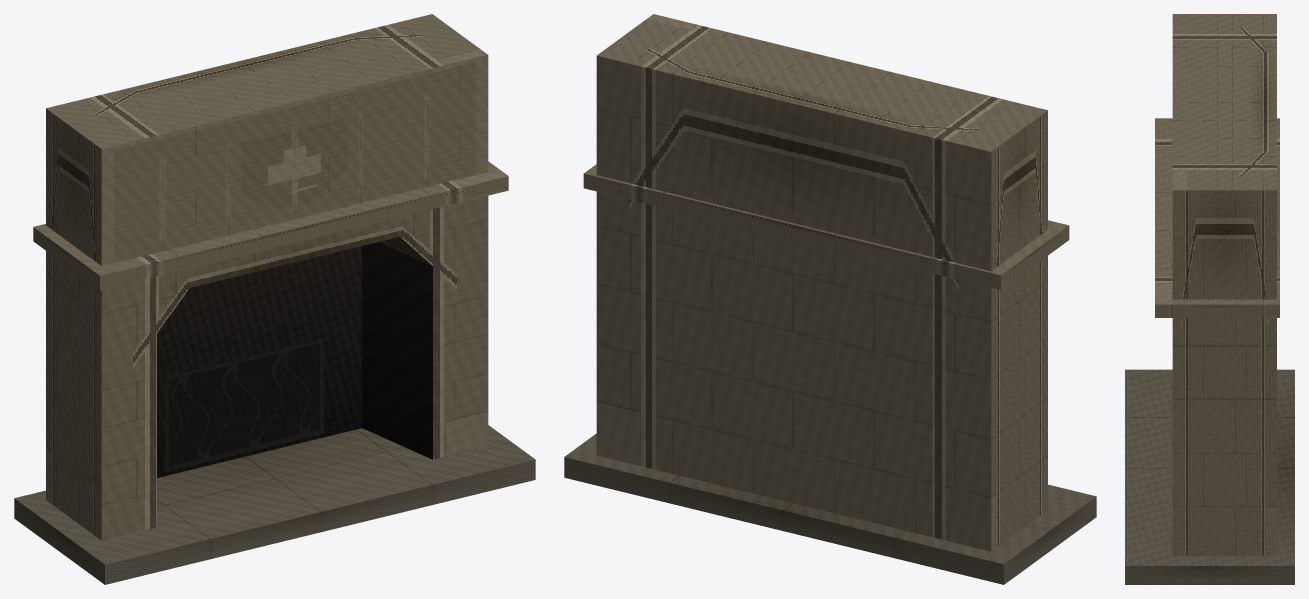
File: striped-first-surface.glb
3 views of the same model, side by side, from view 1: azimuth 30°, elevation 25°; view 2: azimuth 150°, elevation 25°; view 3: azimuth 270°, elevation 25° (orthographic). The views are drawn at different scales.
Parts seen in each view (by area): view 1: Castle fireplace / real backed opening and supported mantel; view 2: Castle fireplace / real backed opening and supported mantel; view 3: Castle fireplace / real backed opening and supported mantel.
Boxes of the visible parts, x1,y1,x2,y2 form: Castle fireplace / real backed opening and supported mantel: [14, 14, 535, 584]; Castle fireplace / real backed opening and supported mantel: [564, 14, 1096, 584]; Castle fireplace / real backed opening and supported mantel: [1125, 14, 1294, 584].
Bounding box in the file's own units: 3.12 × 2.85 × 1.14.
Materials: 1 (1 with a texture image).
